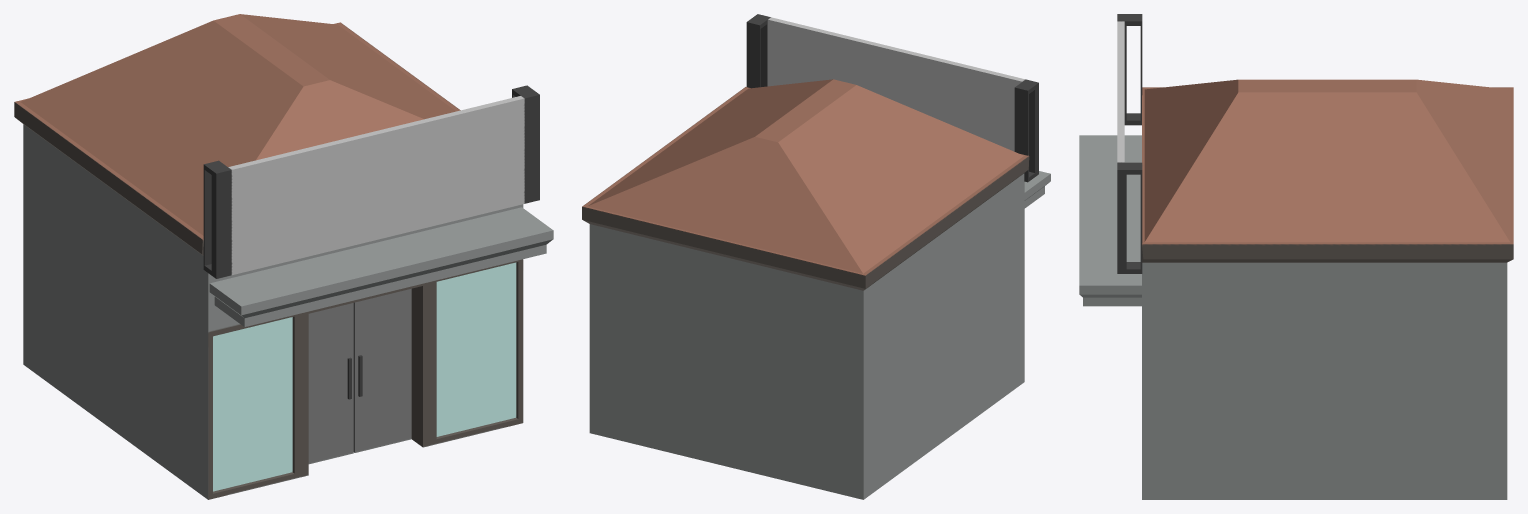
File: BangunanGenericVar1_2.fbx
3 views of the same model, side by side, from view 1: azimuth 30°, elevation 25°; view 2: azimuth 150°, elevation 25°; view 3: azimuth 270°, elevation 25° (orthographic). The views are drawn at different scales.
Visible parts, largest first — view 1: Bangunan_Var1_02; view 2: Bangunan_Var1_02; view 3: Bangunan_Var1_02.
Boxes of the visible parts, x1,y1,x2,y2 form: Bangunan_Var1_02: (14,14,553,499); Bangunan_Var1_02: (582,14,1050,499); Bangunan_Var1_02: (1079,14,1513,499).
Size of the model in its own units: 300 by 301 by 350.
Materials: 1 (1 with a texture image).
